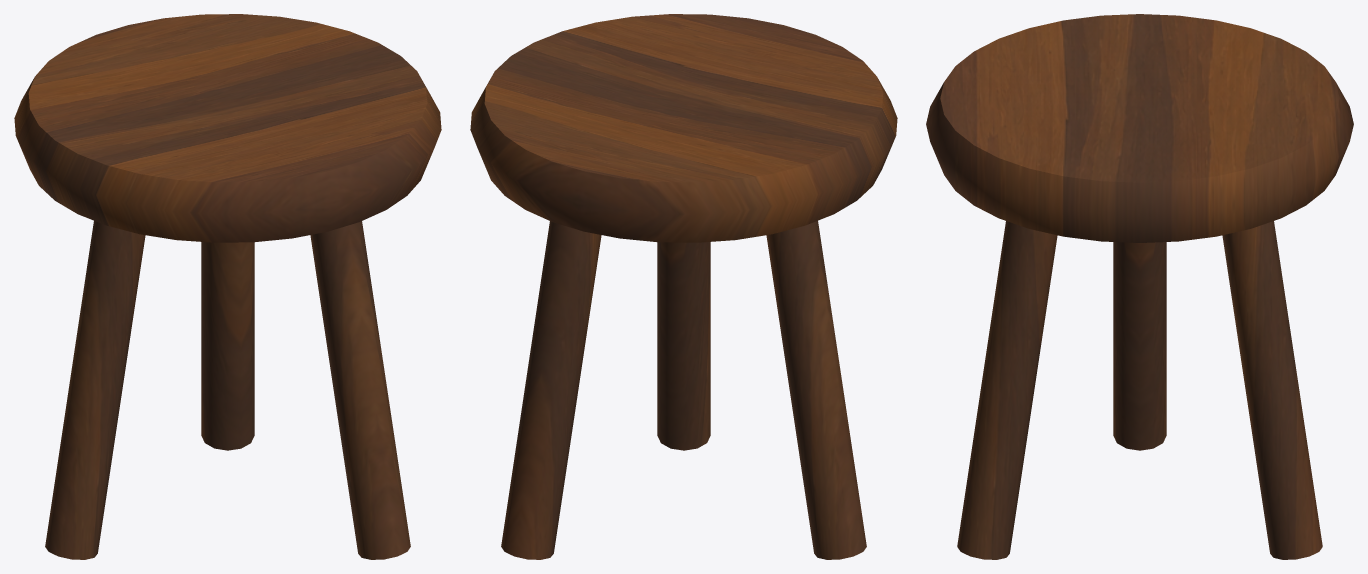
Rendered from CM_AF01_PhysicianStool.fbx.
3 views of the same model, side by side, from view 1: azimuth 30°, elevation 25°; view 2: azimuth 150°, elevation 25°; view 3: azimuth 270°, elevation 25° (orthographic).
Parts seen in each view (by area): view 1: CM_AF01_PhysicianStool; view 2: CM_AF01_PhysicianStool; view 3: CM_AF01_PhysicianStool.
Part boxes in pixels (<box>): CM_AF01_PhysicianStool: <box>14,14,441,559</box>; CM_AF01_PhysicianStool: <box>470,14,897,559</box>; CM_AF01_PhysicianStool: <box>926,14,1353,559</box>.
Bounding box in the file's own units: 0.45 × 0.4845 × 0.45.
